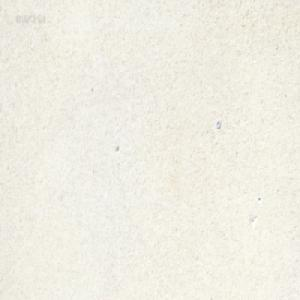Washer: (215, 119, 220, 129)
